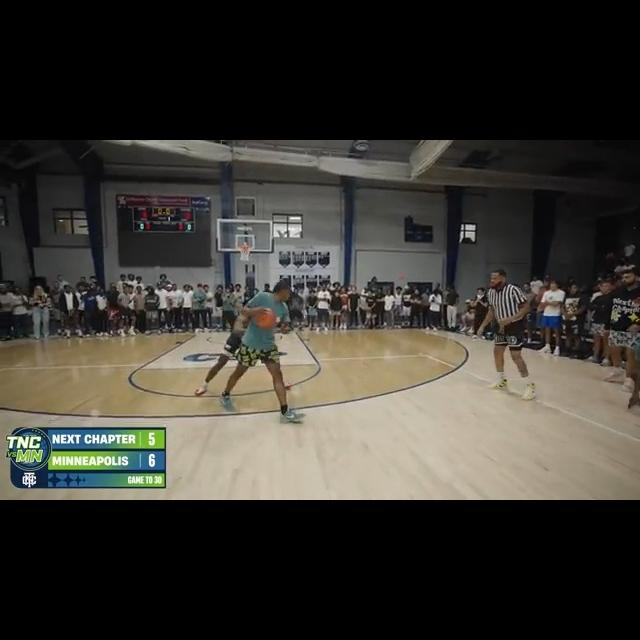basketball: (254, 307, 275, 328)
hoop: (236, 240, 252, 264)
